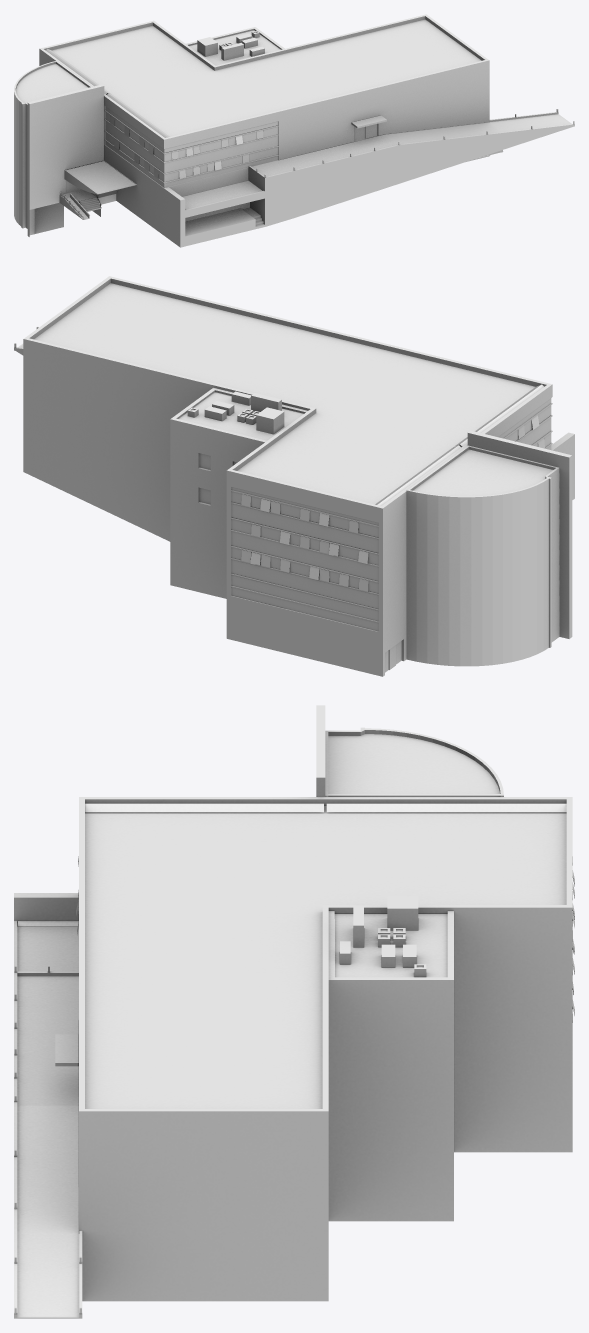
The model's file is hub.glb.
The picture shows the model from 3 angles, top to bottom: view 1: azimuth 30°, elevation 25°; view 2: azimuth 150°, elevation 25°; view 3: azimuth 270°, elevation 25°; orthographic projection. The views are drawn at different scales.
Visible parts, largest first — view 1: sae; view 2: sae; view 3: sae.
Part boxes in pixels (x1,y1,x2,y2): sae: (14, 14, 574, 247); sae: (14, 276, 574, 676); sae: (14, 705, 574, 1318).
Size of the model in its own units: 19.99 by 5.44 by 10.46.
Materials: 1 (1 with a texture image).
